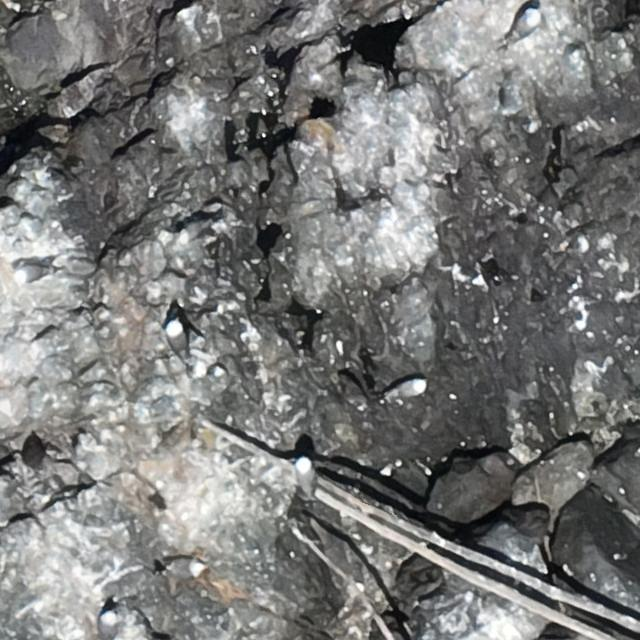umineko: (165, 319, 185, 356), (163, 557, 200, 576), (391, 378, 424, 398), (295, 458, 313, 494), (516, 9, 538, 34), (98, 610, 115, 639), (16, 264, 45, 281)
